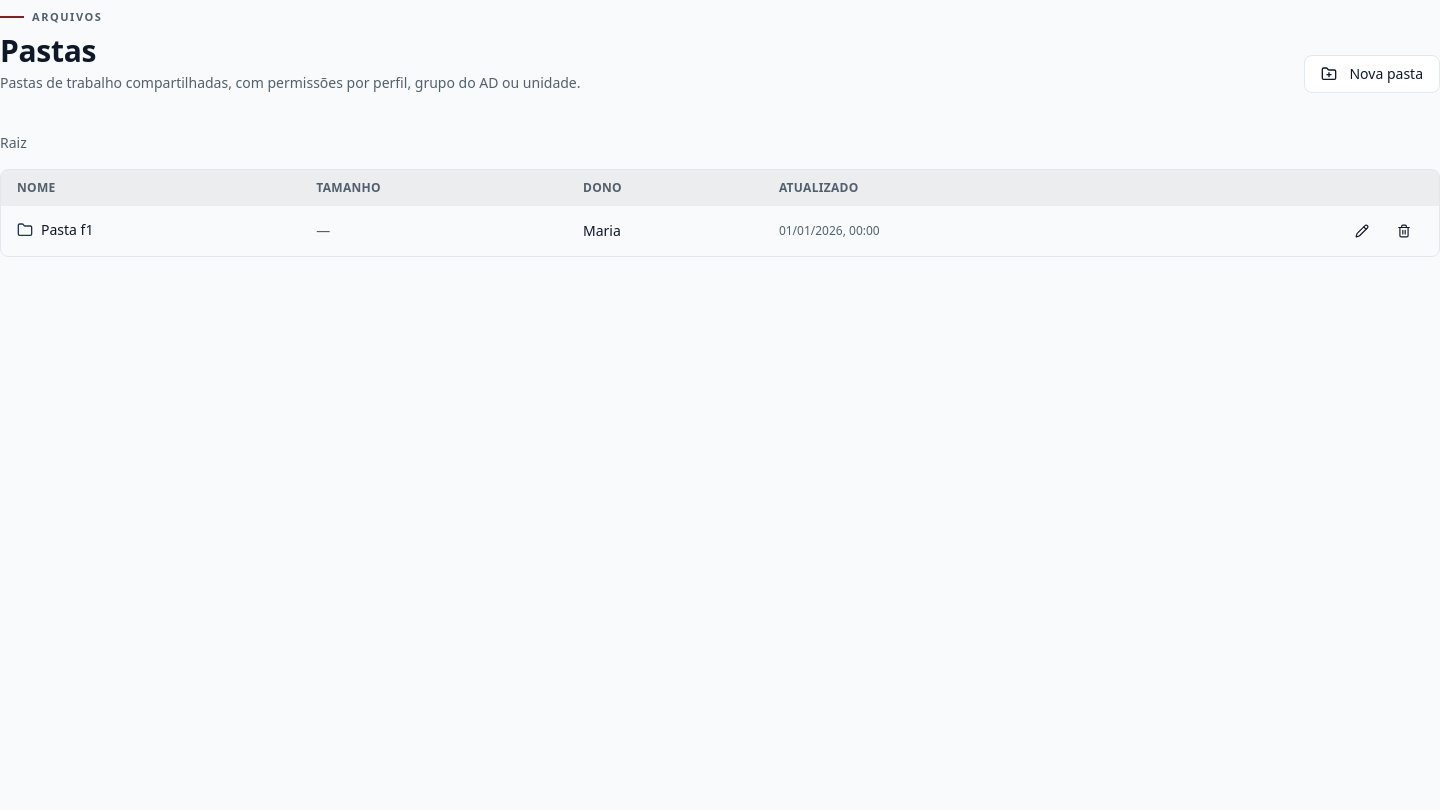
Arquivos — raiz › pasta com unidade dona (ADR 013): oferece as unidades em que a pessoa está lotada
Click the button "Nova pasta": (1372, 74) [1304,55,1439,93]
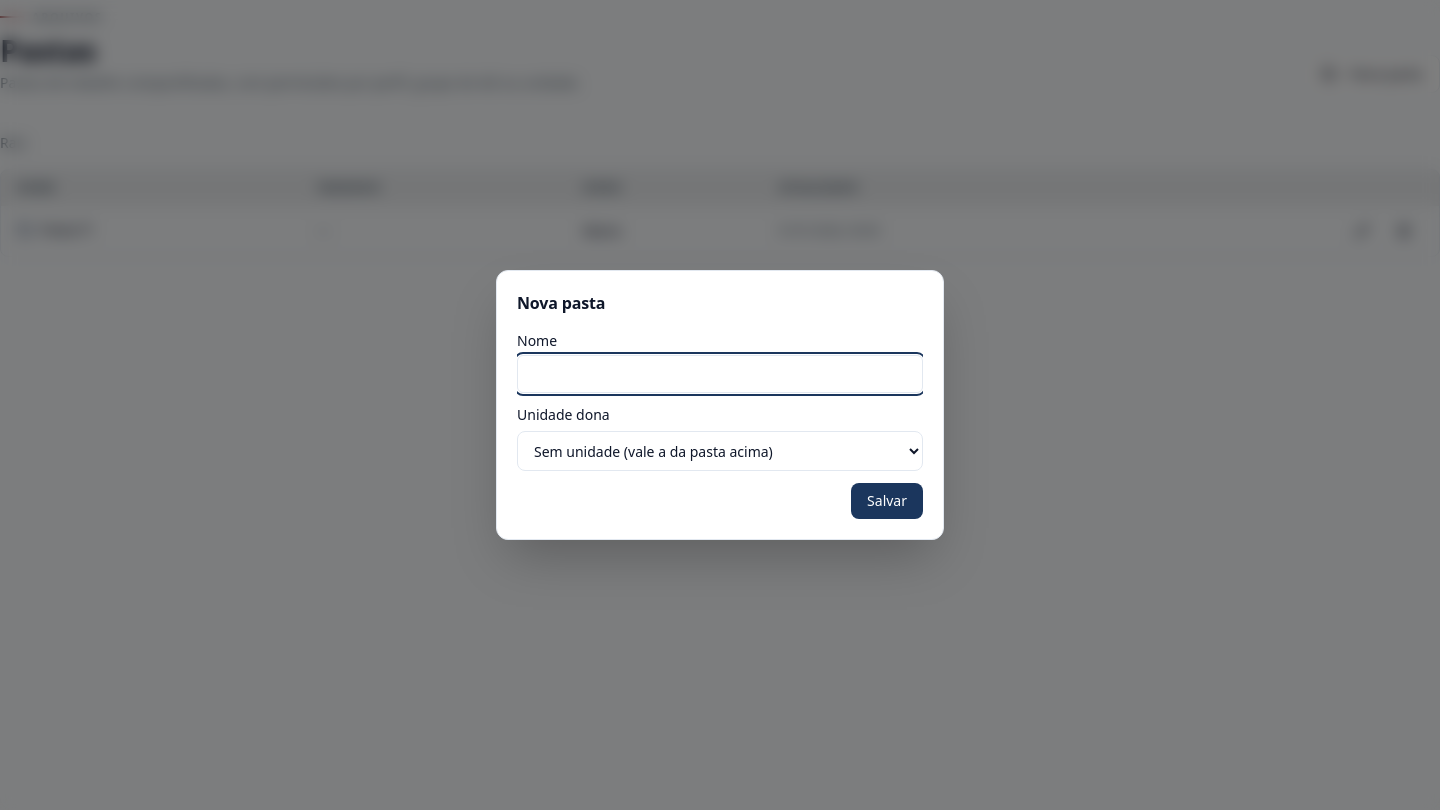
In the field labelled "Nome": (720, 374) [517,355,923,393], type "Da unidade"
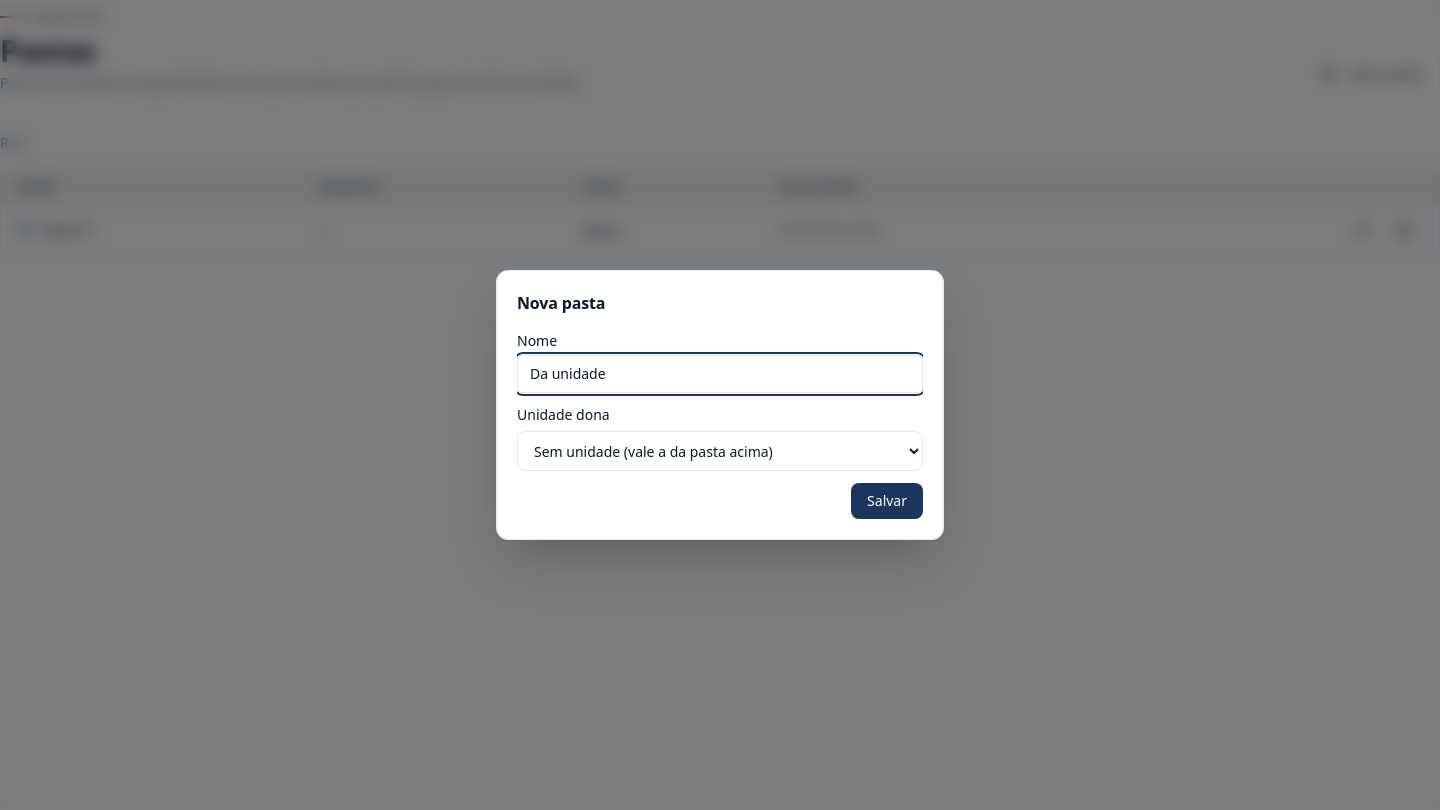
Select "Unidade A" in the dropdown labelled "Unidade dona": (720, 451) [517,431,923,471]
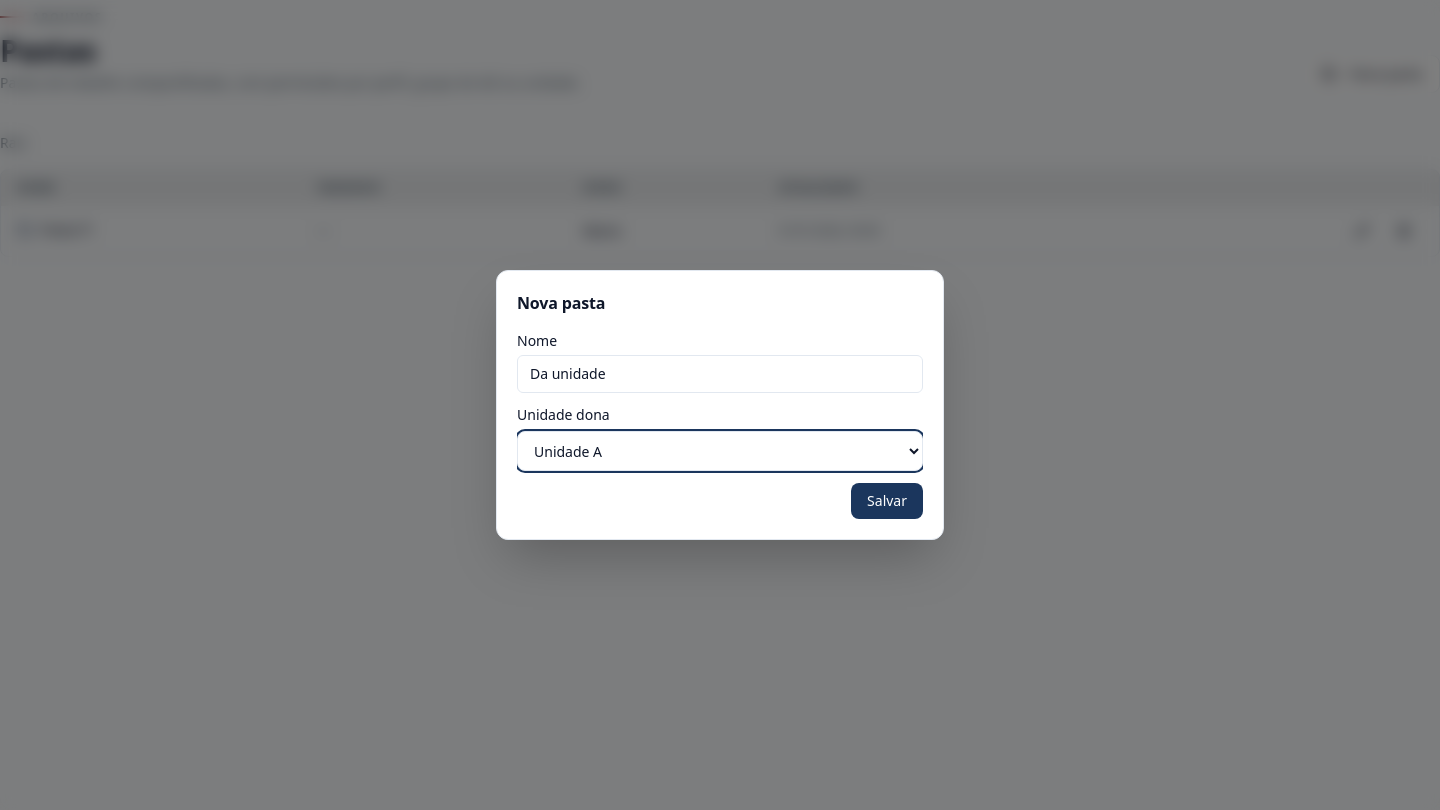
Click the button "Salvar": (887, 501) [851,483,923,519]
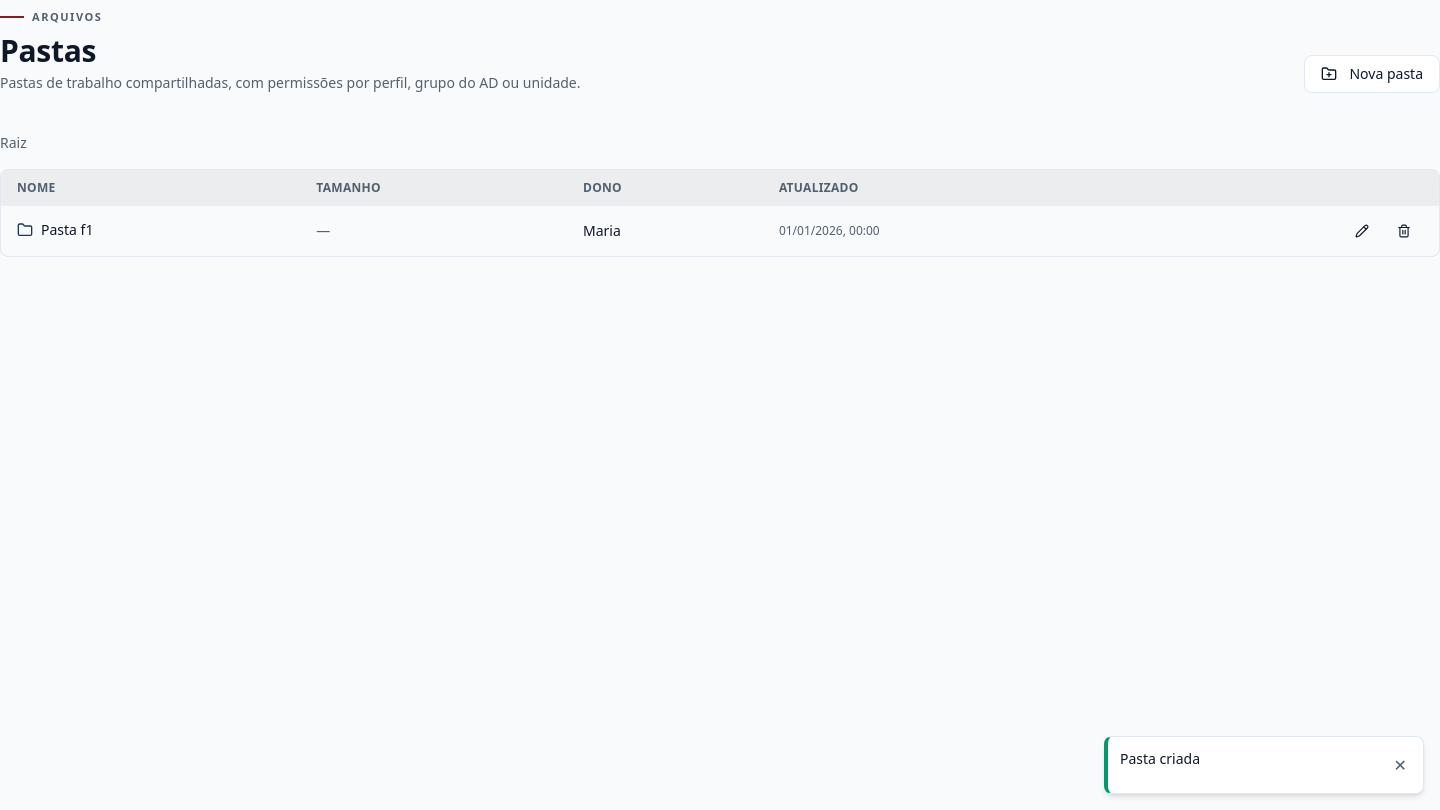
Click the button named "Renomear Pasta f1": (1362, 231) [1343,218,1381,244]
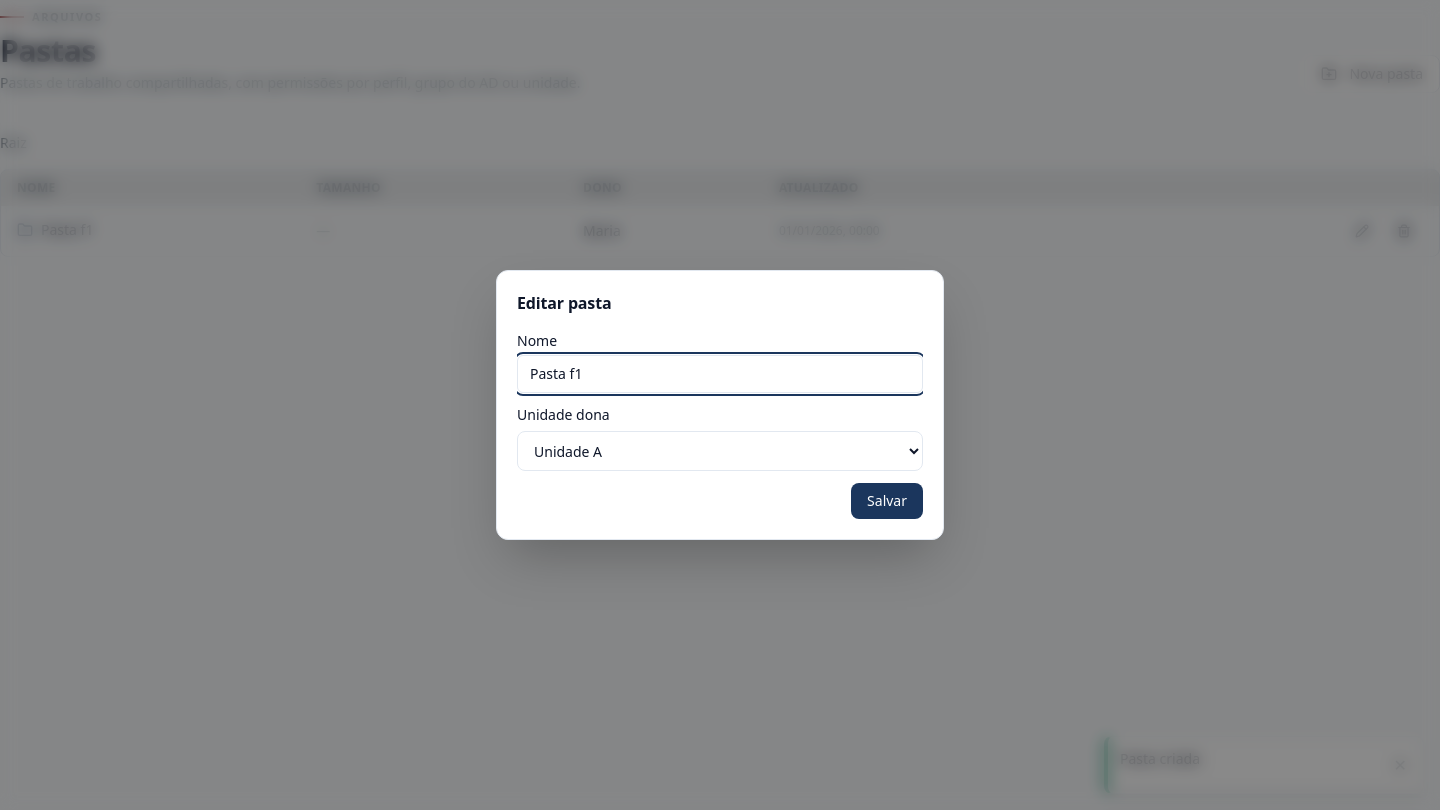
Now the dropdown labelled "Unidade dona" shows "Unidade A", box [517,431,923,471]
